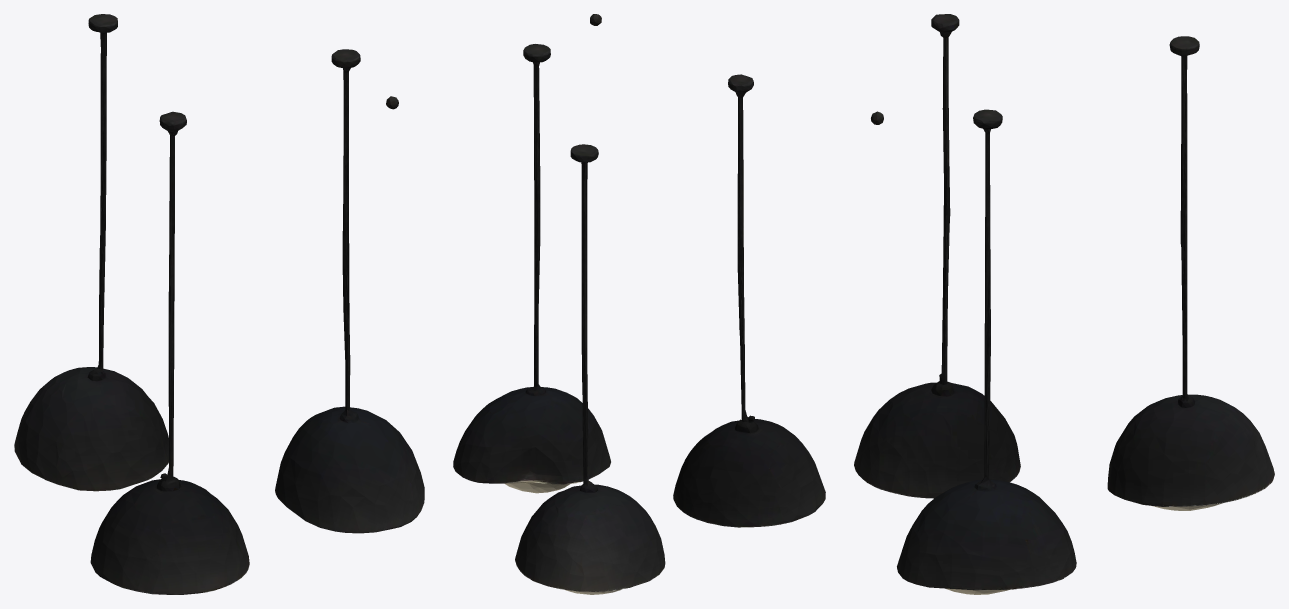
The model's file is lights_pendant_black.glb.
3 views of the same model, side by side, from view 1: azimuth 30°, elevation 25°; view 2: azimuth 150°, elevation 25°; view 3: azimuth 270°, elevation 25° (orthographic). The views are drawn at different scales.
Visible parts, largest first — view 1: geometry_0; view 2: geometry_0; view 3: geometry_0.
Boxes of the visible parts, x1=… form: geometry_0: x1=14, y1=14, x2=424, y2=594; geometry_0: x1=453, y1=14, x2=825, y2=594; geometry_0: x1=854, y1=14, x2=1274, y2=594.
Size of the model in its own units: 0.7593 by 0.9964 by 0.8021.
1 material, 1 textured.
